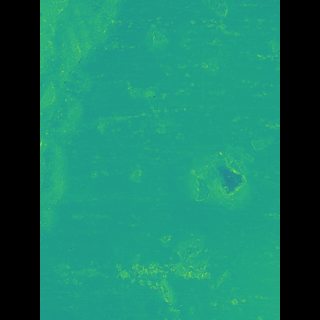Loch: (67, 0, 133, 234), (79, 230, 199, 311), (181, 148, 228, 215)
